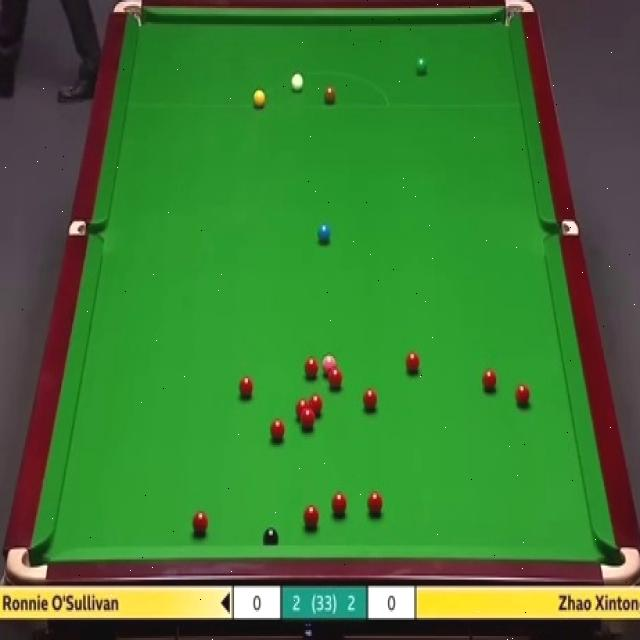black-ball: (263, 527, 279, 546)
blue-ball: (316, 219, 331, 245)
brown-ball: (324, 86, 335, 104)
green-ball: (413, 57, 429, 76)
pink-ball: (323, 355, 337, 377)
red-ball: (404, 349, 421, 378), (515, 383, 531, 411), (192, 510, 209, 536), (367, 490, 383, 516), (239, 377, 255, 402), (482, 368, 498, 393), (362, 387, 377, 413), (304, 504, 319, 529), (332, 492, 347, 517), (310, 394, 324, 419), (270, 419, 285, 442), (328, 367, 343, 389), (296, 398, 309, 419), (305, 359, 318, 379), (302, 410, 314, 430)
white-ball: (290, 69, 304, 92)
yellow-ball: (252, 88, 266, 108)
